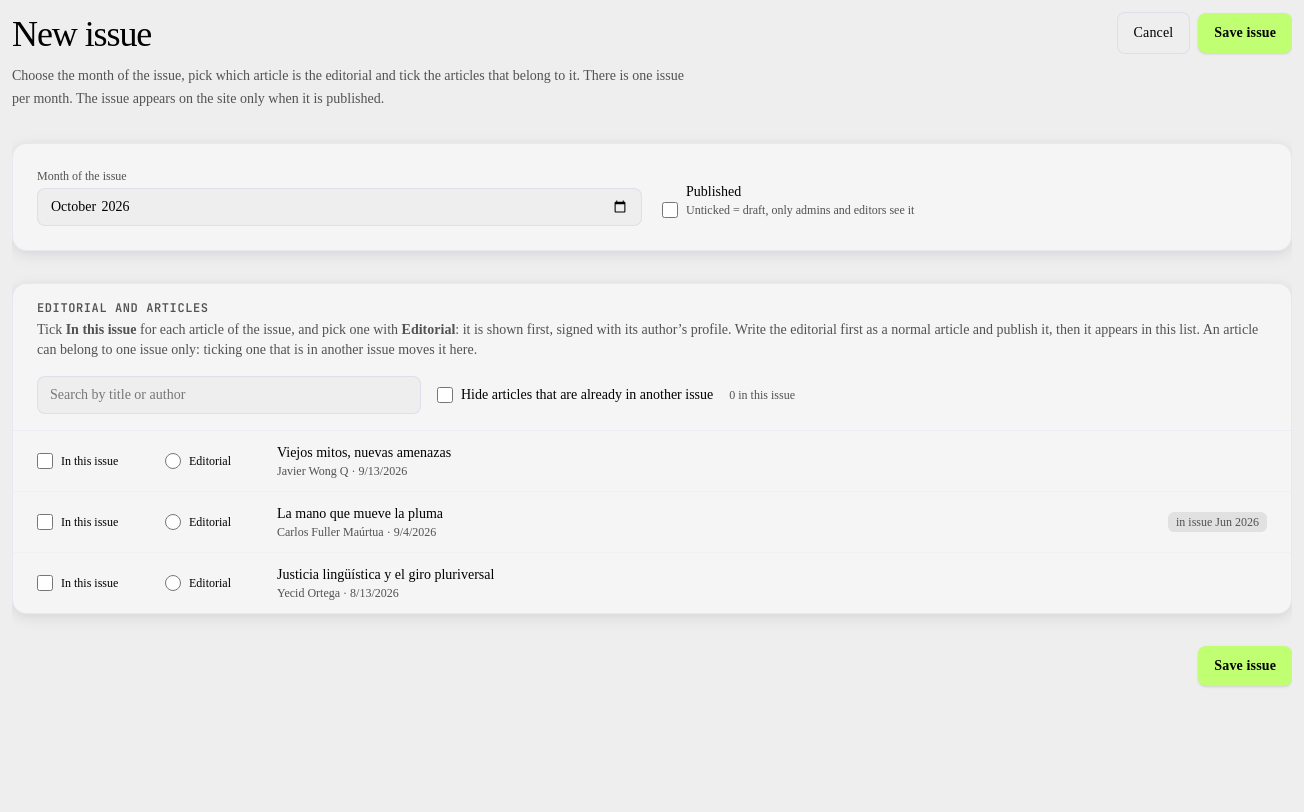
Scenario: IssueForm (Admin → Issues) › can hide the articles already in another issue
Click the checkbox labelled "Hide articles that are already in another issue".
click(445, 394)  # box top-left (437, 386), bottom-right (453, 402)
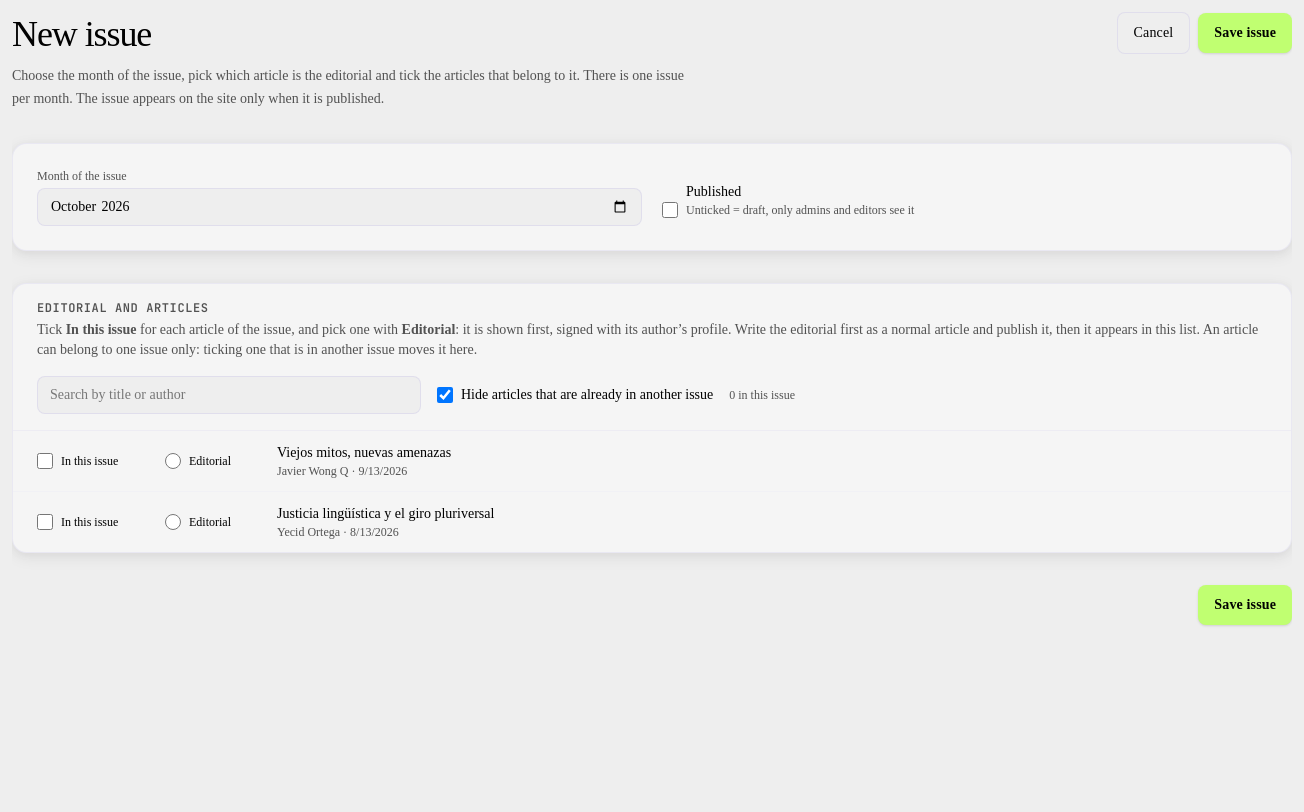
expect the text "Justicia lingüística y el giro pluriversal" is shown: met, box top-left (277, 506), bottom-right (494, 520)
expect the text "La mano que mueve la pluma" is gone: met
